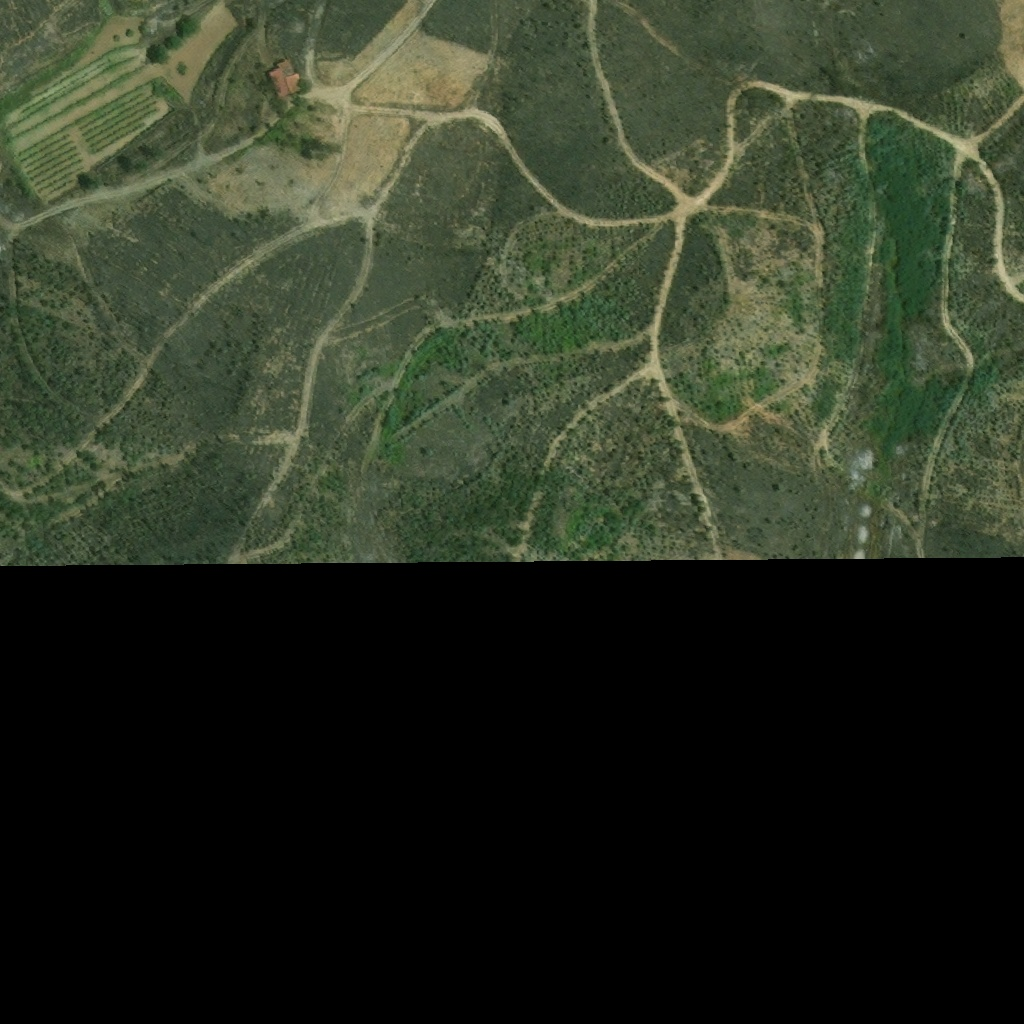0 no-damage: (268, 59, 303, 99)
